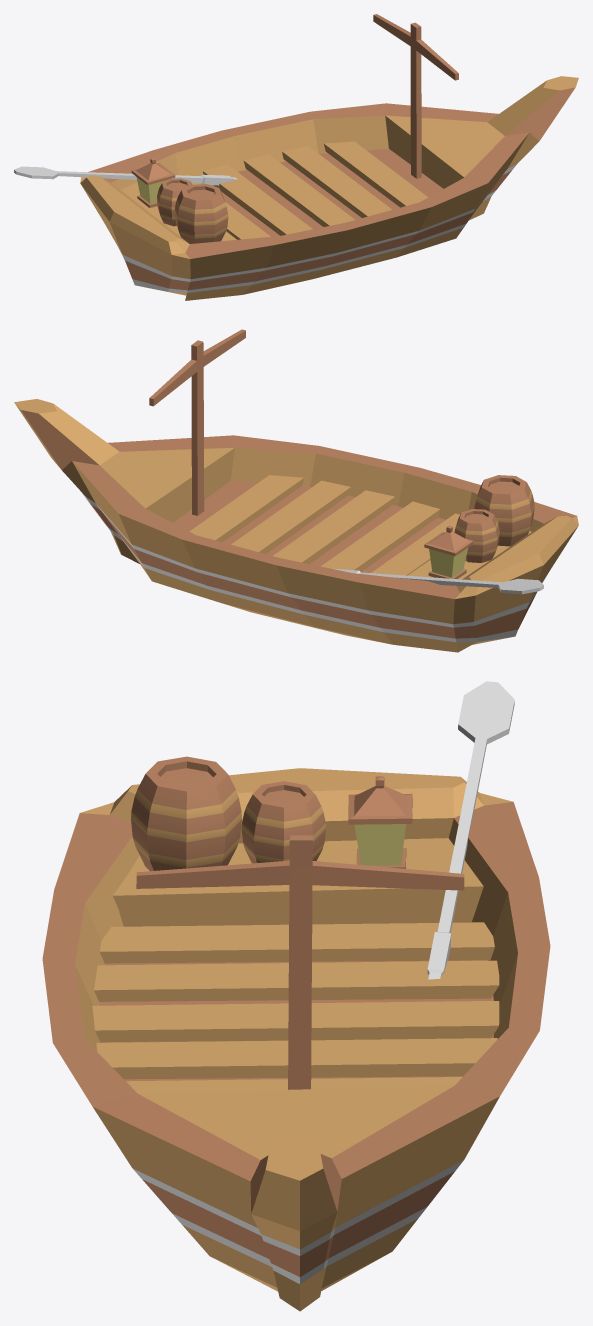
Rendered from Boat.fbx.
3 renders of one model, top to bottom at view 1: azimuth 30°, elevation 25°; view 2: azimuth 150°, elevation 25°; view 3: azimuth 270°, elevation 25°, orthographic. The views are drawn at different scales.
Parts seen in each view (by area): view 1: pCube1, pCylinder1, pCube10, pCube9, pCube7, pCube4, pCube12, pCube8, pCylinder2, pCube11; view 2: pCube1, pCylinder1, pCube7, pCube10, pCube9, pCube12, pCube4, pCylinder2, pCube11, pCube8; view 3: pCube1, pCylinder1, pCube10, pCube12, pCube9, pCube11, pCube7, pCube8, pCylinder2, pCube4.
Boxes of the visible parts, x1,y1,x2,y2 form: pCube1: (80,76,578,300); pCylinder1: (157,178,228,243); pCube10: (243,154,354,226); pCube9: (282,146,392,217); pCube7: (373,14,458,178); pCube4: (324,141,427,207); pCube12: (203,164,312,235); pCube8: (14,166,238,185); pCylinder2: (131,158,175,207); pCube11: (187,175,270,239); pCube1: (14,399,578,652); pCylinder1: (454,475,534,562); pCube7: (149,329,245,515); pCube10: (273,490,394,563); pCube9: (231,480,350,553); pCube12: (321,501,440,571); pCube4: (189,475,303,542); pCylinder2: (424,525,473,578); pCube11: (371,513,459,575); pCube8: (333,568,543,594); pCube1: (42,768,550,1311); pCylinder1: (131,756,325,871); pCube10: (92,1001,499,1042); pCube12: (94,960,499,1001); pCube9: (96,1038,497,1079); pCube11: (99,922,494,963); pCube7: (136,835,464,1089); pCube8: (427,681,514,979); pCylinder2: (348,776,412,868); pCube4: (126,1077,462,1093).
Bounding box in the file's own units: 29.69 × 12.48 × 12.65.
